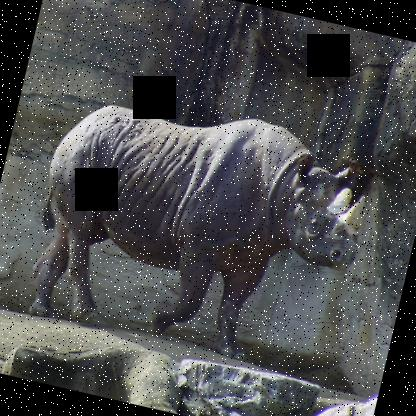Diceros bicornis: (15, 76, 380, 385)
